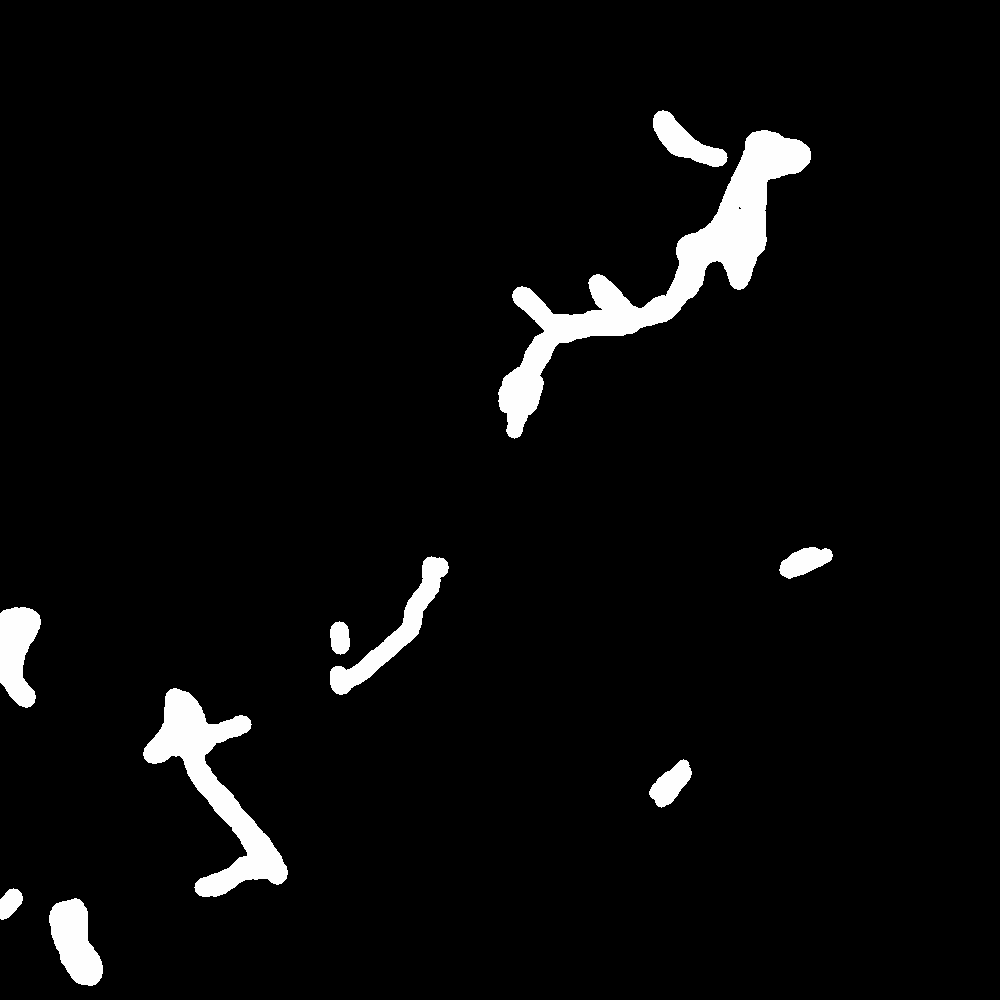illegal: (489, 119, 811, 436), (155, 681, 298, 896), (328, 546, 461, 691), (1, 877, 101, 991), (1, 606, 44, 713), (646, 753, 704, 808), (789, 549, 828, 572)
